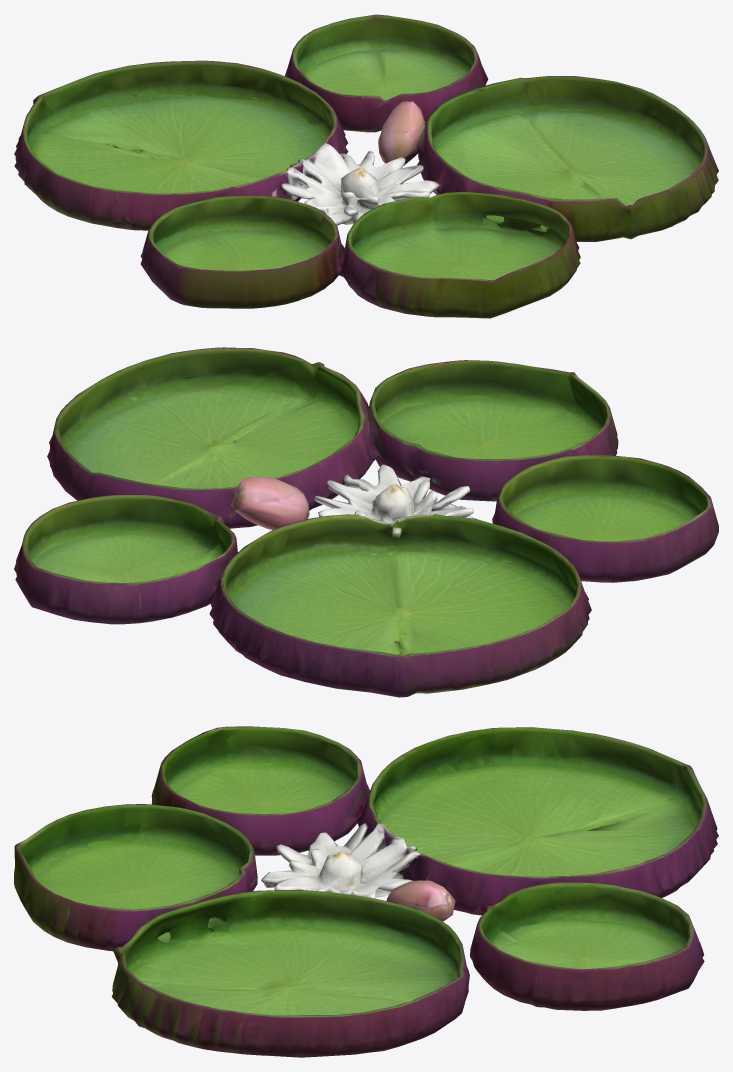
The model's file is lily.glb.
The picture shows the model from 3 angles, top to bottom: view 1: azimuth 30°, elevation 25°; view 2: azimuth 150°, elevation 25°; view 3: azimuth 270°, elevation 25°; orthographic projection. The views are drawn at different scales.
Parts seen in each view (by area): view 1: lod0; view 2: lod0; view 3: lod0.
Boxes of the visible parts, left/top/right/bottom form: lod0: left=14, top=14, right=718, bottom=318; lod0: left=14, top=347, right=718, bottom=697; lod0: left=14, top=726, right=718, bottom=1057.
Bounding box in the file's own units: 0.3502 × 0.0347 × 0.3518.
1 material, 1 textured.
